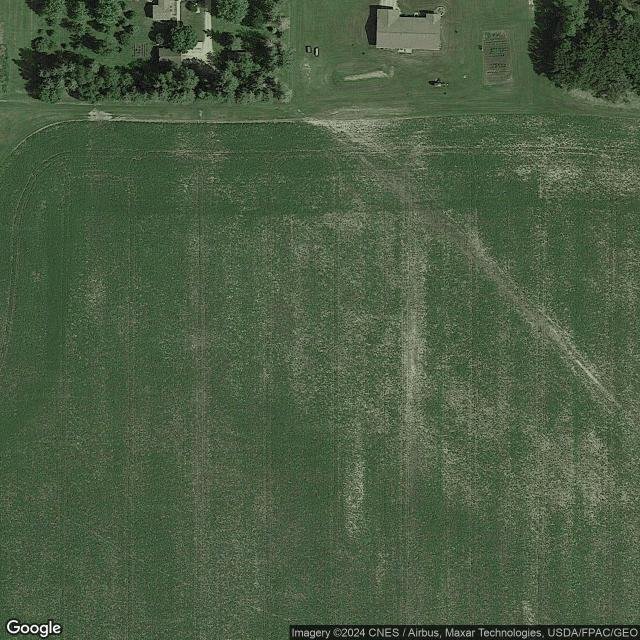Propane: (314, 47, 319, 57)
